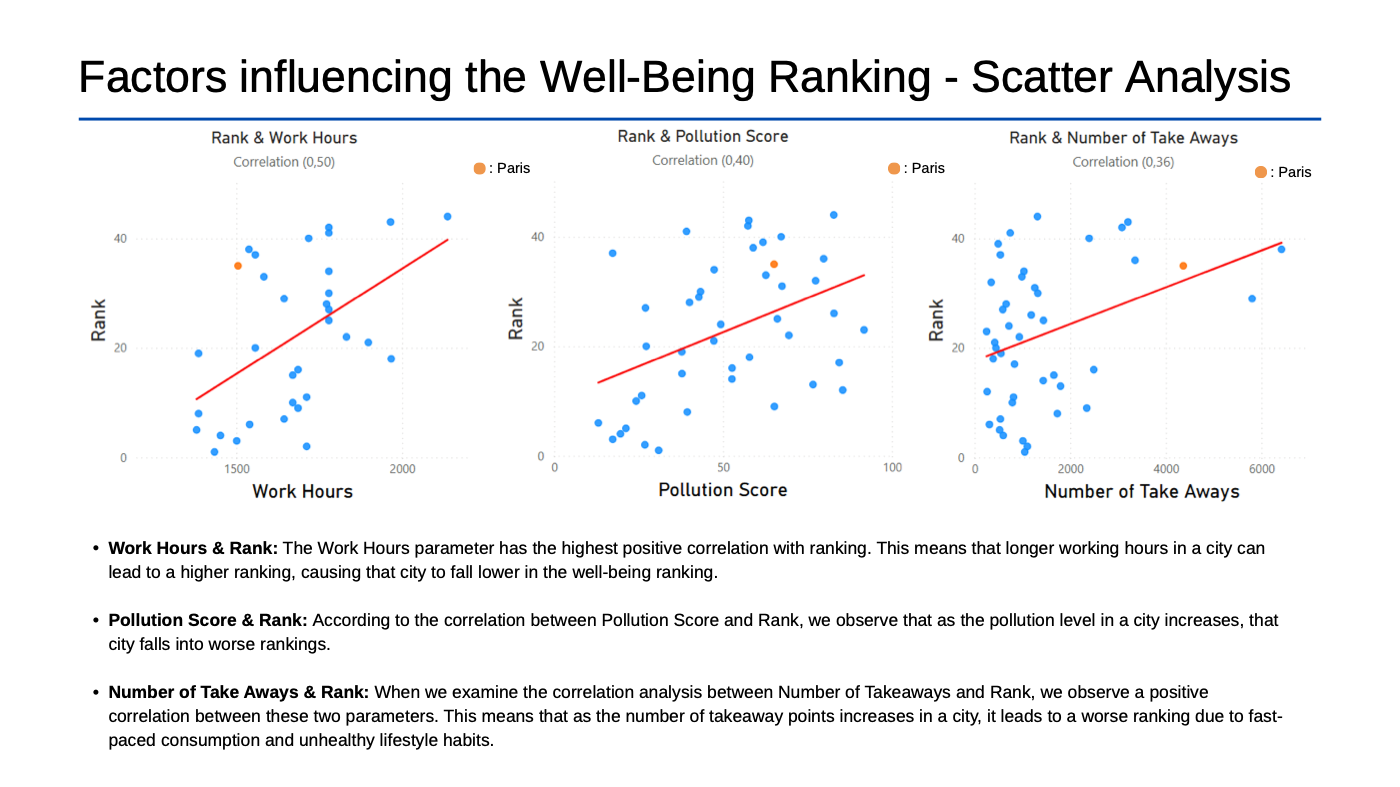

The dashboard page shown, as its layout file describes it:
{"tool":"powerbi","page":{"name":"Correlation Analysis","canvas":[1280,720],"ordinal":1},"visuals":[{"type":"scatterChart","title":"Rank & Work Hours","fields":{"Y":["Sum(DATA4000 2025 T3 Assessment 2 D.Rank)"],"Category":["DATA4000 2025 T3 Assessment 2 D.City"],"X":["Sum(DATA4000 2025 T3 Assessment 2 D.Annual avg. hours worked)"]},"box":[20.6,25.4,404.5,379.1],"z":0},{"type":"scatterChart","title":"Rank & Pollution Score","fields":{"X":["Sum(DATA4000 2025 T3 Assessment 2 D.Pollution(Index score) )"],"Y":["Sum(DATA4000 2025 T3 Assessment 2 D.Rank)"],"Category":["DATA4000 2025 T3 Assessment 2 D.City"]},"box":[437.8,23.8,407.6,379.1],"z":1000},{"type":"scatterChart","title":"Rank & Number of Take Aways","fields":{"Y":["Sum(DATA4000 2025 T3 Assessment 2 D.Rank)"],"Category":["DATA4000 2025 T3 Assessment 2 D.City"],"X":["Sum(DATA4000 2025 T3 Assessment 2 D.Number of takeaways)"]},"box":[858.1,25.4,407.6,379.1],"z":2000}]}

Visuals, with their boxes in screenshot pixels (x1, y1, x2, y2), scaled from the page's 1280x720 canvas onto the 1400x787 screenshot:
"Rank & Work Hours" scatterChart: 23/28/465/442
"Rank & Pollution Score" scatterChart: 479/26/925/440
"Rank & Number of Take Aways" scatterChart: 939/28/1384/442
